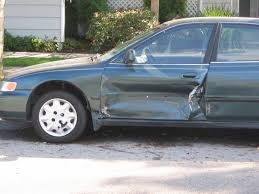Dent: (98, 75, 207, 119)
